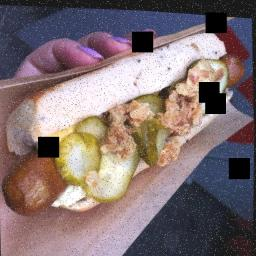hotdog: (0, 150, 65, 219)
